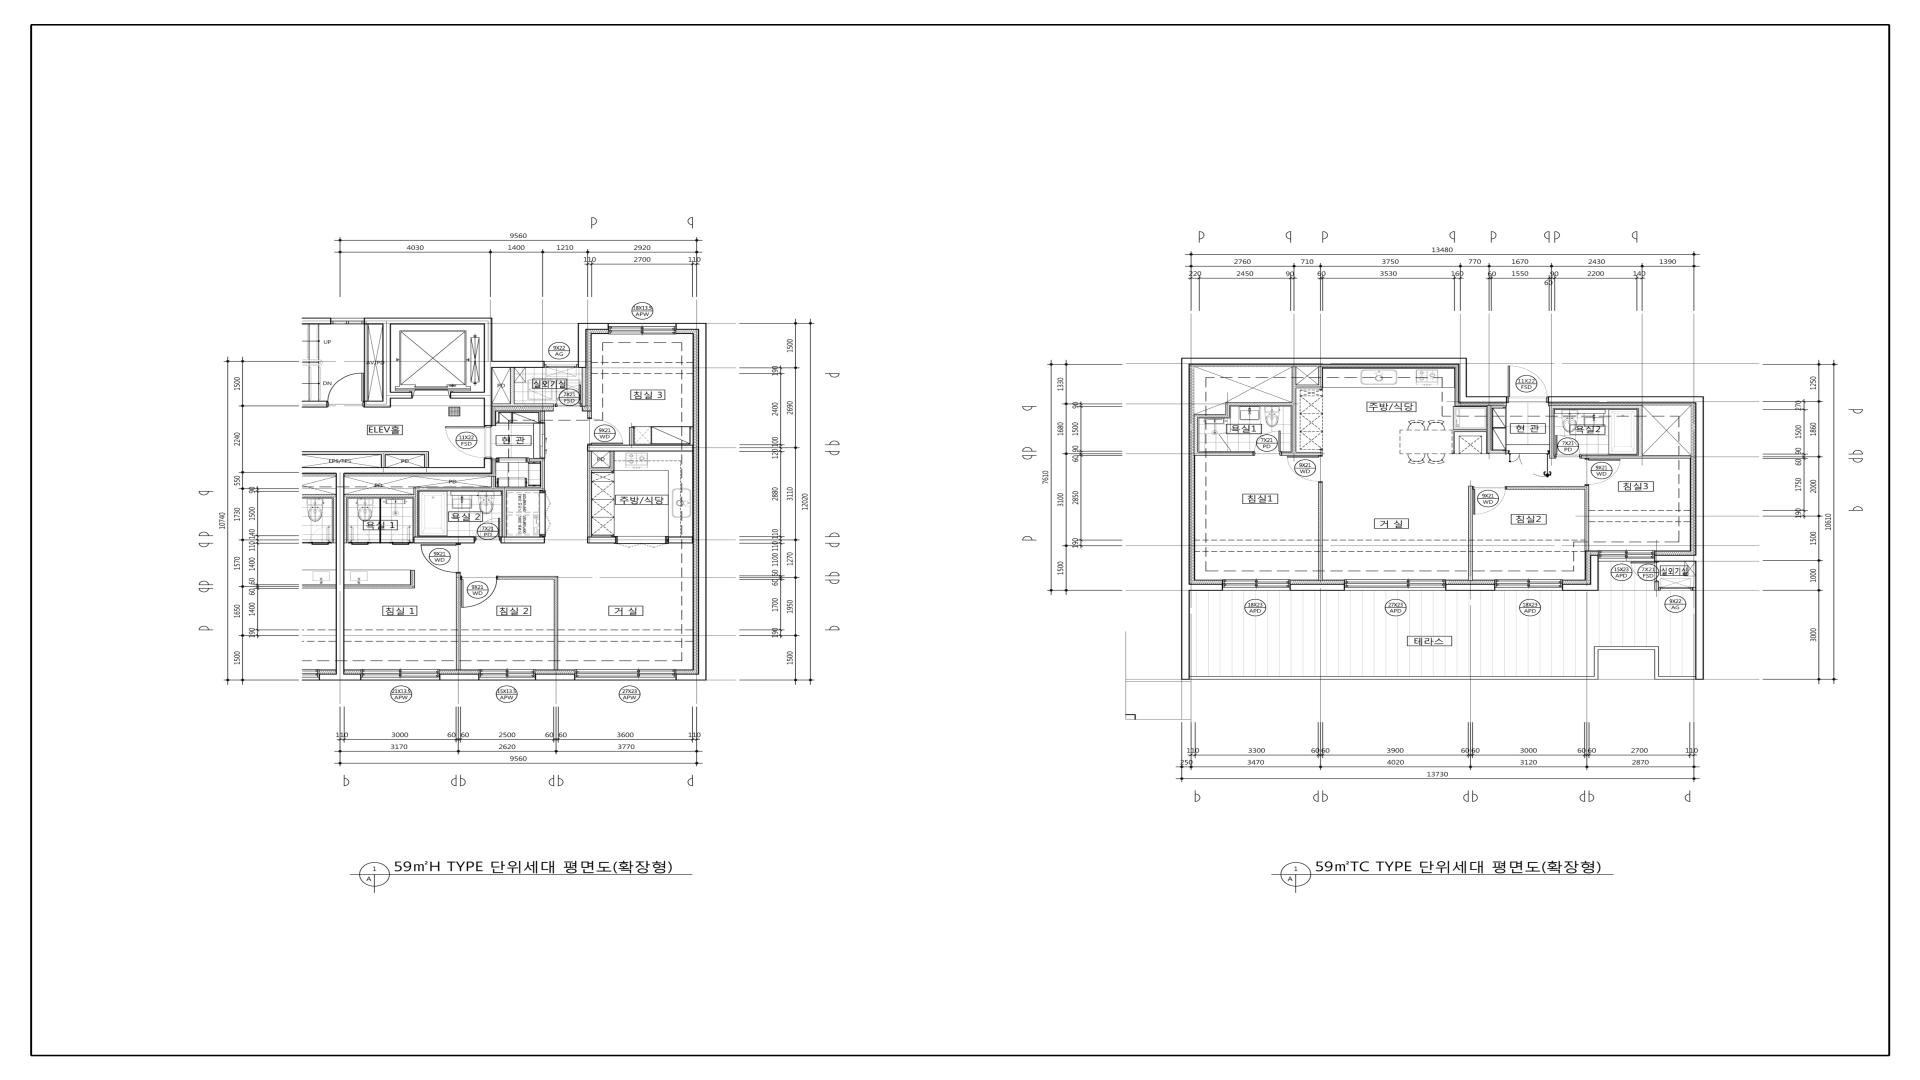door: (1507, 365, 1548, 404), (446, 426, 492, 459), (327, 373, 364, 407), (460, 575, 498, 608), (421, 543, 460, 574), (1287, 455, 1323, 483), (587, 418, 624, 444), (1585, 459, 1621, 485), (1473, 487, 1506, 514), (1253, 430, 1282, 456), (616, 535, 669, 549), (1555, 435, 1581, 459), (475, 518, 501, 542), (555, 385, 582, 407), (1630, 562, 1659, 582), (539, 491, 551, 537), (348, 525, 369, 545), (392, 525, 413, 545), (1218, 431, 1232, 451), (539, 422, 545, 458), (496, 458, 529, 463)
wall: (698, 323, 707, 680), (1189, 357, 1466, 365), (1182, 357, 1189, 591), (336, 473, 344, 674), (1696, 402, 1704, 591), (302, 467, 492, 473), (1548, 396, 1704, 404), (484, 318, 492, 426), (364, 318, 484, 324), (587, 444, 694, 451), (382, 324, 390, 407), (1468, 485, 1473, 580), (414, 487, 541, 491), (302, 451, 429, 455), (1291, 367, 1296, 452), (587, 451, 592, 537), (1581, 455, 1691, 459), (413, 537, 475, 543), (1319, 483, 1323, 580), (456, 574, 460, 670), (1290, 584, 1345, 591), (554, 579, 558, 670), (578, 330, 587, 368), (1549, 405, 1638, 409), (492, 361, 545, 368), (1445, 584, 1495, 591), (1458, 365, 1466, 404), (364, 324, 368, 401), (501, 537, 545, 543), (1590, 555, 1598, 591), (344, 584, 415, 588), (319, 674, 361, 680), (344, 495, 414, 498), (1466, 397, 1507, 404), (1655, 555, 1696, 562), (1549, 409, 1555, 459), (1225, 402, 1291, 406), (1585, 485, 1589, 551), (535, 674, 575, 680), (439, 674, 479, 680), (1486, 405, 1491, 454), (492, 404, 554, 407), (450, 392, 484, 398), (1189, 584, 1222, 591), (1506, 487, 1585, 489), (578, 323, 609, 330), (582, 368, 587, 407), (1638, 405, 1642, 455), (302, 318, 331, 324), (587, 537, 616, 543), (510, 368, 516, 404), (1563, 584, 1590, 591), (414, 491, 418, 537), (502, 491, 506, 537), (669, 537, 694, 543), (302, 401, 327, 407), (498, 576, 558, 579), (390, 392, 413, 398), (1193, 418, 1197, 455), (1199, 452, 1253, 455), (676, 674, 698, 680), (676, 323, 698, 330), (1193, 414, 1225, 418), (364, 401, 382, 407), (344, 498, 347, 543), (541, 462, 545, 491), (1282, 452, 1323, 455), (592, 467, 615, 471), (609, 451, 615, 467), (410, 570, 415, 584), (1319, 367, 1323, 385), (484, 458, 492, 467), (1296, 385, 1323, 388), (629, 427, 633, 444), (1225, 406, 1230, 418), (381, 455, 386, 467), (529, 458, 545, 462), (1491, 450, 1506, 454), (380, 498, 381, 542), (491, 476, 496, 487), (425, 455, 429, 467), (541, 411, 545, 422), (1655, 582, 1659, 591), (587, 411, 592, 418), (369, 542, 392, 543), (1693, 587, 1696, 591), (1230, 418, 1230, 431)
window: (575, 669, 676, 680), (1345, 579, 1445, 591), (361, 669, 439, 680), (1222, 579, 1290, 591), (1495, 579, 1563, 591), (608, 323, 676, 334), (1598, 550, 1655, 562), (479, 669, 535, 680), (545, 361, 578, 368), (331, 318, 364, 324), (1659, 587, 1693, 591)
